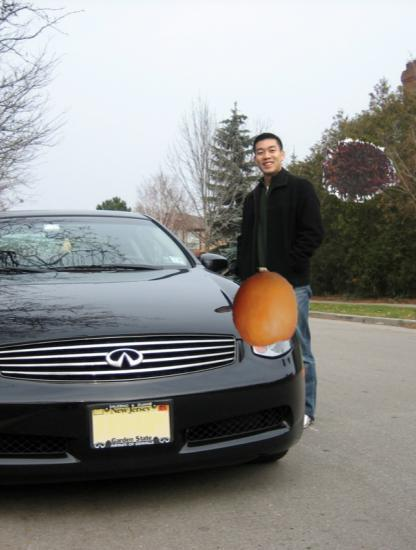Apricot: (225, 268, 306, 349)
Rambutan: (320, 128, 405, 213)
